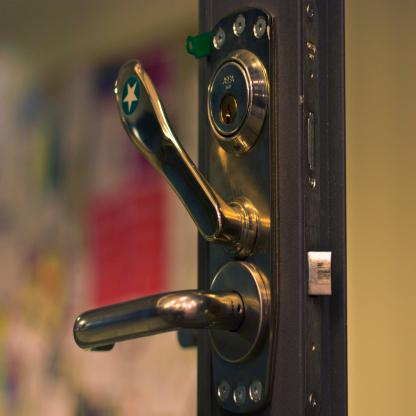door: (0, 0, 345, 415)
lever: (111, 47, 224, 245), (65, 264, 240, 358)
